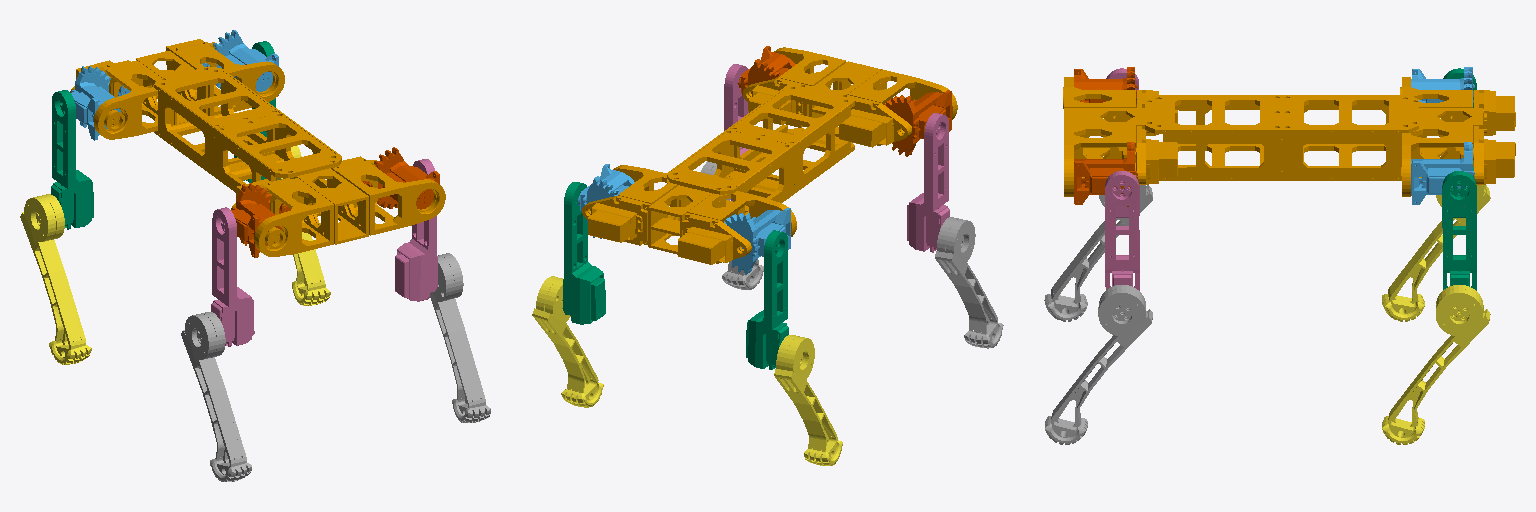
The robot description file, URDF, robot "quadruped":
<?xml version="1.0"?>
<robot name="quadruped">
  <link name="base">
    <visual>
      <origin xyz="0 0 0" rpy="0 0 0"/>
      <geometry><mesh filename="meshes_local/horizontal_x4.stl"/></geometry>
    </visual>
    <visual>
      <origin xyz="0 0 0" rpy="0 0 0"/>
      <geometry><mesh filename="meshes_local/horizontal_x4_001.stl"/></geometry>
    </visual>
    <visual>
      <origin xyz="0 0 0" rpy="0 0 0"/>
      <geometry><mesh filename="meshes_local/horizontal_x4_002.stl"/></geometry>
    </visual>
    <visual>
      <origin xyz="0 0 0" rpy="0 0 0"/>
      <geometry><mesh filename="meshes_local/horizontal_x4_003.stl"/></geometry>
    </visual>
    <visual>
      <origin xyz="0 0 0" rpy="0 0 0"/>
      <geometry><mesh filename="meshes_local/side_x2.stl"/></geometry>
    </visual>
    <visual>
      <origin xyz="0 0 0" rpy="0 0 0"/>
      <geometry><mesh filename="meshes_local/side_x2_001.stl"/></geometry>
    </visual>
    <visual>
      <origin xyz="0 0 0" rpy="0 0 0"/>
      <geometry><mesh filename="meshes_local/legs_middle_x2.stl"/></geometry>
    </visual>
    <visual>
      <origin xyz="0 0 0" rpy="0 0 0"/>
      <geometry><mesh filename="meshes_local/legs_middle_x2_001.stl"/></geometry>
    </visual>
    <visual>
      <origin xyz="0 0 0" rpy="0 0 0"/>
      <geometry><mesh filename="meshes_local/29KG_Servo_DS3218MG_002.stl"/></geometry>
    </visual>
    <visual>
      <origin xyz="0 0 0" rpy="0 0 0"/>
      <geometry><mesh filename="meshes_local/29KG_Servo_DS3218MG_005.stl"/></geometry>
    </visual>
    <visual>
      <origin xyz="0 0 0" rpy="0 0 0"/>
      <geometry><mesh filename="meshes_local/29KG_Servo_DS3218MG_008.stl"/></geometry>
    </visual>
    <visual>
      <origin xyz="0 0 0" rpy="0 0 0"/>
      <geometry><mesh filename="meshes_local/29KG_Servo_DS3218MG_011.stl"/></geometry>
    </visual>
    <visual>
      <origin xyz="0 0 0" rpy="0 0 0"/>
      <geometry><mesh filename="meshes_local/hip_1.stl"/></geometry>
    </visual>
    <visual>
      <origin xyz="0 0 0" rpy="0 0 0"/>
      <geometry><mesh filename="meshes_local/hip_1_001.stl"/></geometry>
    </visual>
    <visual>
      <origin xyz="0 0 0" rpy="0 0 0"/>
      <geometry><mesh filename="meshes_local/hip_1_002.stl"/></geometry>
    </visual>
    <visual>
      <origin xyz="0 0 0" rpy="0 0 0"/>
      <geometry><mesh filename="meshes_local/hip_1_003.stl"/></geometry>
    </visual>
    <visual>
      <origin xyz="0 0 0" rpy="0 0 0"/>
      <geometry><mesh filename="meshes_local/hip_cup.stl"/></geometry>
    </visual>
    <visual>
      <origin xyz="0 0 0" rpy="0 0 0"/>
      <geometry><mesh filename="meshes_local/hip_cup_001.stl"/></geometry>
    </visual>
    <visual>
      <origin xyz="0 0 0" rpy="0 0 0"/>
      <geometry><mesh filename="meshes_local/RR__hip_2.stl"/></geometry>
    </visual>
    <visual>
      <origin xyz="0 0 0" rpy="0 0 0"/>
      <geometry><mesh filename="meshes_local/RR__hip_2_001.stl"/></geometry>
    </visual>
    <visual>
      <origin xyz="0 0 0" rpy="0 0 0"/>
      <geometry><mesh filename="meshes_local/RR__hip_2_002.stl"/></geometry>
    </visual>
    <visual>
      <origin xyz="0 0 0" rpy="0 0 0"/>
      <geometry><mesh filename="meshes_local/RR__hip_2_003.stl"/></geometry>
    </visual>
    <collision><geometry><box size="0.30 0.40 0.08"/></geometry></collision>
    <inertial><mass value="2.5"/><inertia ixx="0.008" ixy="0" ixz="0" iyy="0.015" iyz="0" izz="0.020"/></inertial>
  </link>

  <!-- FL LEG -->
  <link name="fl_hip">
    <visual>
      <origin xyz="0 0 0" rpy="0 0 0"/>
      <geometry><mesh filename="meshes_local/29KG_Servo_DS3218MG_010.stl"/></geometry>
    </visual>
    <visual>
      <origin xyz="0 0 0" rpy="0 0 0"/>
      <geometry><mesh filename="meshes_local/hip_servo_gear_003.stl"/></geometry>
    </visual>
    <visual>
      <origin xyz="0 0 0" rpy="0 0 0"/>
      <geometry><mesh filename="meshes_local/RR__servo_frame_1_003.stl"/></geometry>
    </visual>
    <collision><origin xyz="0 0 -0.05"/><geometry><cylinder radius="0.03" length="0.10"/></geometry></collision>
    <inertial><mass value="0.30"/><origin xyz="0 0 -0.05"/><inertia ixx="0.0001" ixy="0" ixz="0" iyy="0.0001" iyz="0" izz="0.00005"/></inertial>
  </link>
  <joint name="fl_hip_joint" type="revolute">
    <parent link="base"/><child link="fl_hip"/>
    <origin xyz="0.0412 0.1660 -0.1168"/><axis xyz="0 1 0"/>
    <limit lower="-0.78" upper="0.78" effort="20" velocity="5"/>
    <dynamics damping="0.5" friction="0.2"/>
  </joint>

  <link name="fl_thigh">
    <visual>
      <origin xyz="0 0 0" rpy="0 0 0"/>
      <geometry><mesh filename="meshes_local/29KG_Servo_DS3218MG_009.stl"/></geometry>
    </visual>
    <visual>
      <origin xyz="0 0 0" rpy="0 0 0"/>
      <geometry><mesh filename="meshes_local/RR__upper_leg_x2_003.stl"/></geometry>
    </visual>
    <collision><origin xyz="0 0 -0.06"/><geometry><box size="0.025 0.02 0.12"/></geometry></collision>
    <inertial><mass value="0.15"/><origin xyz="0 0 -0.06"/><inertia ixx="0.0003" ixy="0" ixz="0" iyy="0.0003" iyz="0" izz="0.00003"/></inertial>
  </link>
  <joint name="fl_thigh_joint" type="revolute">
    <parent link="fl_hip"/><child link="fl_thigh"/>
    <origin xyz="0.0689 -0.0165 -0.0014"/><axis xyz="1 0 0"/>
    <limit lower="-1.57" upper="1.57" effort="20" velocity="5"/>
    <dynamics damping="0.5" friction="0.2"/>
  </joint>

  <link name="fl_calf">
    <visual>
      <origin xyz="0 0 0" rpy="0 0 0"/>
      <geometry><mesh filename="meshes_local/RR__foot_003.stl"/></geometry>
    </visual>
    <visual>
      <origin xyz="0 0 0" rpy="0 0 0"/>
      <geometry><mesh filename="meshes_local/RR__lower_leg_003.stl"/></geometry>
    </visual>
    <visual>
      <origin xyz="0 0 0" rpy="0 0 0"/>
      <geometry><mesh filename="meshes_local/RR__lower_leg_servo_horn_x2_006.stl"/></geometry>
    </visual>
    <visual>
      <origin xyz="0 0 0" rpy="0 0 0"/>
      <geometry><mesh filename="meshes_local/RR__lower_leg_servo_horn_x2_007.stl"/></geometry>
    </visual>
    <collision><geometry><sphere radius="0.018"/></geometry></collision>
    <inertial><mass value="0.08"/><inertia ixx="0.0001" ixy="0" ixz="0" iyy="0.0001" iyz="0" izz="0.0001"/></inertial>
  </link>
  <joint name="fl_knee_joint" type="revolute">
    <parent link="fl_thigh"/><child link="fl_calf"/>
    <origin xyz="0.0172 0.0075 -0.1144"/><axis xyz="1 0 0"/>
    <limit lower="-2.70" upper="0.5" effort="20" velocity="5"/>
    <dynamics damping="0.5" friction="0.2"/>
  </joint>

  <link name="fl_foot">
    <collision><geometry><sphere radius="0.015"/></geometry></collision>
    <inertial><mass value="0.05"/><inertia ixx="0.00005" ixy="0" ixz="0" iyy="0.00005" iyz="0" izz="0.00005"/></inertial>
  </link>
  <joint name="fl_foot_joint" type="fixed">
    <parent link="fl_calf"/><child link="fl_foot"/>
    <origin xyz="0.0162 -0.0557 -0.1398"/>
  </joint>

  <!-- FR LEG -->
  <link name="fr_hip">
    <visual>
      <origin xyz="0 0 0" rpy="0 0 0"/>
      <geometry><mesh filename="meshes_local/29KG_Servo_DS3218MG_004.stl"/></geometry>
    </visual>
    <visual>
      <origin xyz="0 0 0" rpy="0 0 0"/>
      <geometry><mesh filename="meshes_local/hip_servo_gear_001.stl"/></geometry>
    </visual>
    <visual>
      <origin xyz="0 0 0" rpy="0 0 0"/>
      <geometry><mesh filename="meshes_local/RR__servo_frame_1_001.stl"/></geometry>
    </visual>
    <collision><origin xyz="0 0 -0.05"/><geometry><cylinder radius="0.03" length="0.10"/></geometry></collision>
    <inertial><mass value="0.30"/><origin xyz="0 0 -0.05"/><inertia ixx="0.0001" ixy="0" ixz="0" iyy="0.0001" iyz="0" izz="0.00005"/></inertial>
  </link>
  <joint name="fr_hip_joint" type="revolute">
    <parent link="base"/><child link="fr_hip"/>
    <origin xyz="0.0412 -0.1659 -0.1168"/><axis xyz="0 1 0"/>
    <limit lower="-0.78" upper="0.78" effort="20" velocity="5"/>
    <dynamics damping="0.5" friction="0.2"/>
  </joint>

  <link name="fr_thigh">
    <visual>
      <origin xyz="0 0 0" rpy="0 0 0"/>
      <geometry><mesh filename="meshes_local/29KG_Servo_DS3218MG_003.stl"/></geometry>
    </visual>
    <visual>
      <origin xyz="0 0 0" rpy="0 0 0"/>
      <geometry><mesh filename="meshes_local/RR__upper_leg_x2_001.stl"/></geometry>
    </visual>
    <collision><origin xyz="0 0 -0.06"/><geometry><box size="0.025 0.02 0.12"/></geometry></collision>
    <inertial><mass value="0.15"/><origin xyz="0 0 -0.06"/><inertia ixx="0.0003" ixy="0" ixz="0" iyy="0.0003" iyz="0" izz="0.00003"/></inertial>
  </link>
  <joint name="fr_thigh_joint" type="revolute">
    <parent link="fr_hip"/><child link="fr_thigh"/>
    <origin xyz="0.0689 -0.0164 -0.0014"/><axis xyz="1 0 0"/>
    <limit lower="-1.57" upper="1.57" effort="20" velocity="5"/>
    <dynamics damping="0.5" friction="0.2"/>
  </joint>

  <link name="fr_calf">
    <visual>
      <origin xyz="0 0 0" rpy="0 0 0"/>
      <geometry><mesh filename="meshes_local/RR__foot_001.stl"/></geometry>
    </visual>
    <visual>
      <origin xyz="0 0 0" rpy="0 0 0"/>
      <geometry><mesh filename="meshes_local/RR__lower_leg_001.stl"/></geometry>
    </visual>
    <visual>
      <origin xyz="0 0 0" rpy="0 0 0"/>
      <geometry><mesh filename="meshes_local/RR__lower_leg_servo_horn_x2_002.stl"/></geometry>
    </visual>
    <visual>
      <origin xyz="0 0 0" rpy="0 0 0"/>
      <geometry><mesh filename="meshes_local/RR__lower_leg_servo_horn_x2_003.stl"/></geometry>
    </visual>
    <collision><geometry><sphere radius="0.018"/></geometry></collision>
    <inertial><mass value="0.08"/><inertia ixx="0.0001" ixy="0" ixz="0" iyy="0.0001" iyz="0" izz="0.0001"/></inertial>
  </link>
  <joint name="fr_knee_joint" type="revolute">
    <parent link="fr_thigh"/><child link="fr_calf"/>
    <origin xyz="0.0172 0.0075 -0.1144"/><axis xyz="1 0 0"/>
    <limit lower="-2.70" upper="0.5" effort="20" velocity="5"/>
    <dynamics damping="0.5" friction="0.2"/>
  </joint>

  <link name="fr_foot">
    <collision><geometry><sphere radius="0.015"/></geometry></collision>
    <inertial><mass value="0.05"/><inertia ixx="0.00005" ixy="0" ixz="0" iyy="0.00005" iyz="0" izz="0.00005"/></inertial>
  </link>
  <joint name="fr_foot_joint" type="fixed">
    <parent link="fr_calf"/><child link="fr_foot"/>
    <origin xyz="0.0162 -0.0558 -0.1398"/>
  </joint>

  <!-- RL LEG -->
  <link name="rl_hip">
    <visual>
      <origin xyz="0 0 0" rpy="0 0 0"/>
      <geometry><mesh filename="meshes_local/29KG_Servo_DS3218MG_007.stl"/></geometry>
    </visual>
    <visual>
      <origin xyz="0 0 0" rpy="0 0 0"/>
      <geometry><mesh filename="meshes_local/hip_servo_gear_002.stl"/></geometry>
    </visual>
    <visual>
      <origin xyz="0 0 0" rpy="0 0 0"/>
      <geometry><mesh filename="meshes_local/RR__servo_frame_1_002.stl"/></geometry>
    </visual>
    <collision><origin xyz="0 0 -0.05"/><geometry><cylinder radius="0.03" length="0.10"/></geometry></collision>
    <inertial><mass value="0.30"/><origin xyz="0 0 -0.05"/><inertia ixx="0.0001" ixy="0" ixz="0" iyy="0.0001" iyz="0" izz="0.00005"/></inertial>
  </link>
  <joint name="rl_hip_joint" type="revolute">
    <parent link="base"/><child link="rl_hip"/>
    <origin xyz="-0.0412 0.1660 -0.1168"/><axis xyz="0 1 0"/>
    <limit lower="-0.78" upper="0.78" effort="20" velocity="5"/>
    <dynamics damping="0.5" friction="0.2"/>
  </joint>

  <link name="rl_thigh">
    <visual>
      <origin xyz="0 0 0" rpy="0 0 0"/>
      <geometry><mesh filename="meshes_local/29KG_Servo_DS3218MG_006.stl"/></geometry>
    </visual>
    <visual>
      <origin xyz="0 0 0" rpy="0 0 0"/>
      <geometry><mesh filename="meshes_local/RR__upper_leg_x2_002.stl"/></geometry>
    </visual>
    <collision><origin xyz="0 0 -0.06"/><geometry><box size="0.025 0.02 0.12"/></geometry></collision>
    <inertial><mass value="0.15"/><origin xyz="0 0 -0.06"/><inertia ixx="0.0003" ixy="0" ixz="0" iyy="0.0003" iyz="0" izz="0.00003"/></inertial>
  </link>
  <joint name="rl_thigh_joint" type="revolute">
    <parent link="rl_hip"/><child link="rl_thigh"/>
    <origin xyz="-0.0689 -0.0165 -0.0014"/><axis xyz="1 0 0"/>
    <limit lower="-1.57" upper="1.57" effort="20" velocity="5"/>
    <dynamics damping="0.5" friction="0.2"/>
  </joint>

  <link name="rl_calf">
    <visual>
      <origin xyz="0 0 0" rpy="0 0 0"/>
      <geometry><mesh filename="meshes_local/RR__foot_002.stl"/></geometry>
    </visual>
    <visual>
      <origin xyz="0 0 0" rpy="0 0 0"/>
      <geometry><mesh filename="meshes_local/RR__lower_leg_002.stl"/></geometry>
    </visual>
    <visual>
      <origin xyz="0 0 0" rpy="0 0 0"/>
      <geometry><mesh filename="meshes_local/RR__lower_leg_servo_horn_x2_004.stl"/></geometry>
    </visual>
    <visual>
      <origin xyz="0 0 0" rpy="0 0 0"/>
      <geometry><mesh filename="meshes_local/RR__lower_leg_servo_horn_x2_005.stl"/></geometry>
    </visual>
    <collision><geometry><sphere radius="0.018"/></geometry></collision>
    <inertial><mass value="0.08"/><inertia ixx="0.0001" ixy="0" ixz="0" iyy="0.0001" iyz="0" izz="0.0001"/></inertial>
  </link>
  <joint name="rl_knee_joint" type="revolute">
    <parent link="rl_thigh"/><child link="rl_calf"/>
    <origin xyz="-0.0171 0.0075 -0.1144"/><axis xyz="1 0 0"/>
    <limit lower="-2.70" upper="0.5" effort="20" velocity="5"/>
    <dynamics damping="0.5" friction="0.2"/>
  </joint>

  <link name="rl_foot">
    <collision><geometry><sphere radius="0.015"/></geometry></collision>
    <inertial><mass value="0.05"/><inertia ixx="0.00005" ixy="0" ixz="0" iyy="0.00005" iyz="0" izz="0.00005"/></inertial>
  </link>
  <joint name="rl_foot_joint" type="fixed">
    <parent link="rl_calf"/><child link="rl_foot"/>
    <origin xyz="-0.0162 -0.0557 -0.1398"/>
  </joint>

  <!-- RR LEG -->
  <link name="rr_hip">
    <visual>
      <origin xyz="0 0 0" rpy="0 0 0"/>
      <geometry><mesh filename="meshes_local/29KG_Servo_DS3218MG_001.stl"/></geometry>
    </visual>
    <visual>
      <origin xyz="0 0 0" rpy="0 0 0"/>
      <geometry><mesh filename="meshes_local/hip_servo_gear.stl"/></geometry>
    </visual>
    <visual>
      <origin xyz="0 0 0" rpy="0 0 0"/>
      <geometry><mesh filename="meshes_local/RR__servo_frame_1.stl"/></geometry>
    </visual>
    <collision><origin xyz="0 0 -0.05"/><geometry><cylinder radius="0.03" length="0.10"/></geometry></collision>
    <inertial><mass value="0.30"/><origin xyz="0 0 -0.05"/><inertia ixx="0.0001" ixy="0" ixz="0" iyy="0.0001" iyz="0" izz="0.00005"/></inertial>
  </link>
  <joint name="rr_hip_joint" type="revolute">
    <parent link="base"/><child link="rr_hip"/>
    <origin xyz="-0.0412 -0.1659 -0.1168"/><axis xyz="0 1 0"/>
    <limit lower="-0.78" upper="0.78" effort="20" velocity="5"/>
    <dynamics damping="0.5" friction="0.2"/>
  </joint>

  <link name="rr_thigh">
    <visual>
      <origin xyz="0 0 0" rpy="0 0 0"/>
      <geometry><mesh filename="meshes_local/29KG_Servo_DS3218MG.stl"/></geometry>
    </visual>
    <visual>
      <origin xyz="0 0 0" rpy="0 0 0"/>
      <geometry><mesh filename="meshes_local/RR__upper_leg_x2.stl"/></geometry>
    </visual>
    <collision><origin xyz="0 0 -0.06"/><geometry><box size="0.025 0.02 0.12"/></geometry></collision>
    <inertial><mass value="0.15"/><origin xyz="0 0 -0.06"/><inertia ixx="0.0003" ixy="0" ixz="0" iyy="0.0003" iyz="0" izz="0.00003"/></inertial>
  </link>
  <joint name="rr_thigh_joint" type="revolute">
    <parent link="rr_hip"/><child link="rr_thigh"/>
    <origin xyz="-0.0689 -0.0164 -0.0014"/><axis xyz="1 0 0"/>
    <limit lower="-1.57" upper="1.57" effort="20" velocity="5"/>
    <dynamics damping="0.5" friction="0.2"/>
  </joint>

  <link name="rr_calf">
    <visual>
      <origin xyz="0 0 0" rpy="0 0 0"/>
      <geometry><mesh filename="meshes_local/RR__foot.stl"/></geometry>
    </visual>
    <visual>
      <origin xyz="0 0 0" rpy="0 0 0"/>
      <geometry><mesh filename="meshes_local/RR__lower_leg.stl"/></geometry>
    </visual>
    <visual>
      <origin xyz="0 0 0" rpy="0 0 0"/>
      <geometry><mesh filename="meshes_local/RR__lower_leg_servo_horn_x2.stl"/></geometry>
    </visual>
    <visual>
      <origin xyz="0 0 0" rpy="0 0 0"/>
      <geometry><mesh filename="meshes_local/RR__lower_leg_servo_horn_x2_001.stl"/></geometry>
    </visual>
    <collision><geometry><sphere radius="0.018"/></geometry></collision>
    <inertial><mass value="0.08"/><inertia ixx="0.0001" ixy="0" ixz="0" iyy="0.0001" iyz="0" izz="0.0001"/></inertial>
  </link>
  <joint name="rr_knee_joint" type="revolute">
    <parent link="rr_thigh"/><child link="rr_calf"/>
    <origin xyz="-0.0171 0.0075 -0.1144"/><axis xyz="1 0 0"/>
    <limit lower="-2.70" upper="0.5" effort="20" velocity="5"/>
    <dynamics damping="0.5" friction="0.2"/>
  </joint>

  <link name="rr_foot">
    <collision><geometry><sphere radius="0.015"/></geometry></collision>
    <inertial><mass value="0.05"/><inertia ixx="0.00005" ixy="0" ixz="0" iyy="0.00005" iyz="0" izz="0.00005"/></inertial>
  </link>
  <joint name="rr_foot_joint" type="fixed">
    <parent link="rr_calf"/><child link="rr_foot"/>
    <origin xyz="-0.0162 -0.0558 -0.1398"/>
  </joint>
</robot>

--- Facts derived from the render (not from the file) ---
Views: 3 orthographic renders of the robot side by side, from view 1: azimuth 30°, elevation 25°; view 2: azimuth 150°, elevation 25°; view 3: azimuth 270°, elevation 25°.
Robot: quadruped — 17 links, 16 joints (12 revolute, 4 fixed); root link base; default pose: all joints at 0.
Visible links, largest first — view 1: base, rl_calf, rr_calf, fr_calf, rr_thigh, rl_thigh, fr_thigh, rr_hip, rl_hip, fl_calf, fr_hip, fl_hip; view 2: base, rl_calf, fl_thigh, rr_calf, rr_thigh, rl_thigh, fl_calf, rr_hip, rl_hip, fl_hip, fr_hip, fr_thigh (+1 smaller); view 3: base, fl_calf, fr_calf, fr_thigh, fl_thigh, rl_calf, rr_calf, fl_hip, fr_hip, rl_hip, rr_hip.
Boxes of the visible links, left/top/right/bottom form: base: left=70, top=39, right=445, bottom=256; rl_calf: left=20, top=194, right=91, bottom=364; rr_calf: left=181, top=312, right=251, bottom=481; fr_calf: left=430, top=253, right=490, bottom=422; rr_thigh: left=211, top=207, right=254, bottom=346; rl_thigh: left=51, top=90, right=93, bottom=229; fr_thigh: left=395, top=159, right=437, bottom=301; rr_hip: left=231, top=183, right=290, bottom=257; rl_hip: left=71, top=66, right=130, bottom=140; fl_calf: left=276, top=145, right=330, bottom=305; fr_hip: left=362, top=147, right=439, bottom=209; fl_hip: left=202, top=30, right=278, bottom=95; base: left=582, top=47, right=957, bottom=264; rl_calf: left=774, top=335, right=842, bottom=465; fl_thigh: left=563, top=182, right=605, bottom=324; rr_calf: left=935, top=217, right=1003, bottom=348; rr_thigh: left=907, top=113, right=949, bottom=252; rl_thigh: left=746, top=230, right=788, bottom=369; fl_calf: left=532, top=276, right=603, bottom=407; rr_hip: left=885, top=90, right=951, bottom=156; rl_hip: left=724, top=208, right=790, bottom=274; fl_hip: left=578, top=164, right=634, bottom=238; fr_hip: left=738, top=46, right=795, bottom=120; fr_thigh: left=724, top=64, right=764, bottom=200; base: left=1063, top=77, right=1515, bottom=196; fl_calf: left=1382, top=285, right=1490, bottom=444; fr_calf: left=1045, top=285, right=1152, bottom=444; fr_thigh: left=1105, top=171, right=1139, bottom=290; fl_thigh: left=1442, top=171, right=1476, bottom=290; rl_calf: left=1382, top=185, right=1490, bottom=321; rr_calf: left=1044, top=185, right=1152, bottom=321; fl_hip: left=1411, top=142, right=1474, bottom=206; fr_hip: left=1074, top=142, right=1137, bottom=206; rl_hip: left=1411, top=67, right=1474, bottom=102; rr_hip: left=1074, top=67, right=1137, bottom=102.
Bounding box of the posed robot: 0.318 × 0.4635 × 0.2972 m (x, y, z).
58 mesh visuals loaded from 58 distinct referenced files (58 binary STL).
